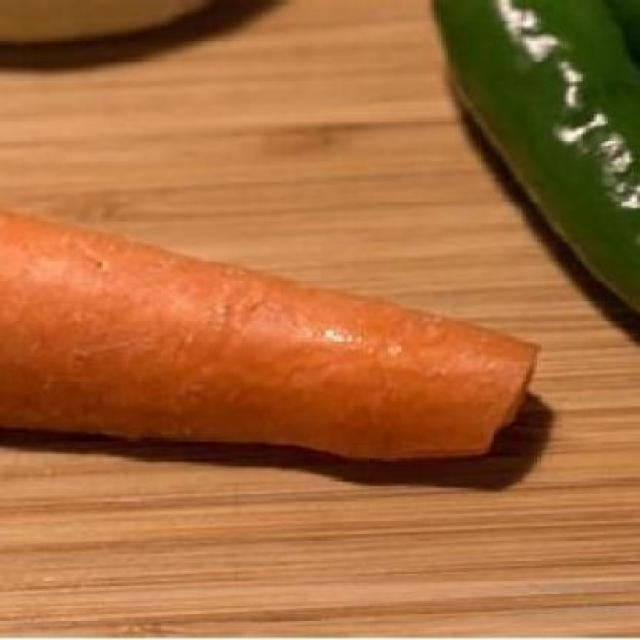carrot: (4, 193, 587, 492)
